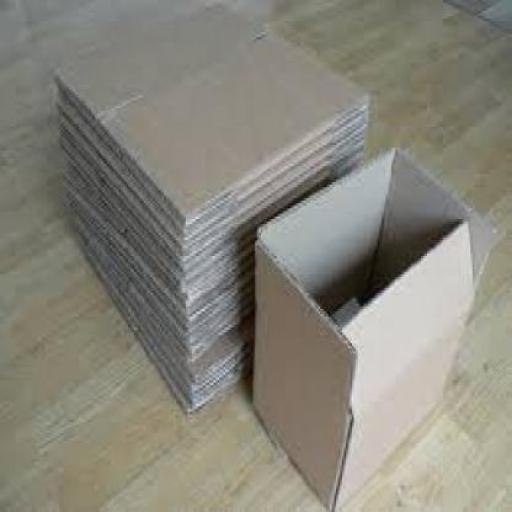cardboard: (56, 6, 364, 412), (249, 140, 492, 510)
